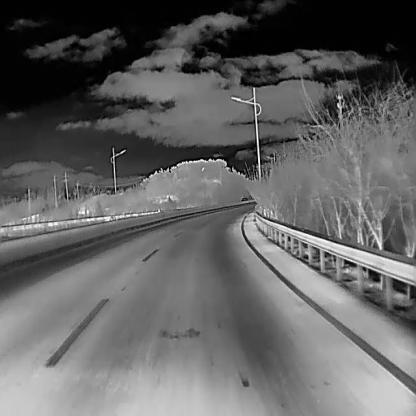car: (241, 196, 247, 202)
